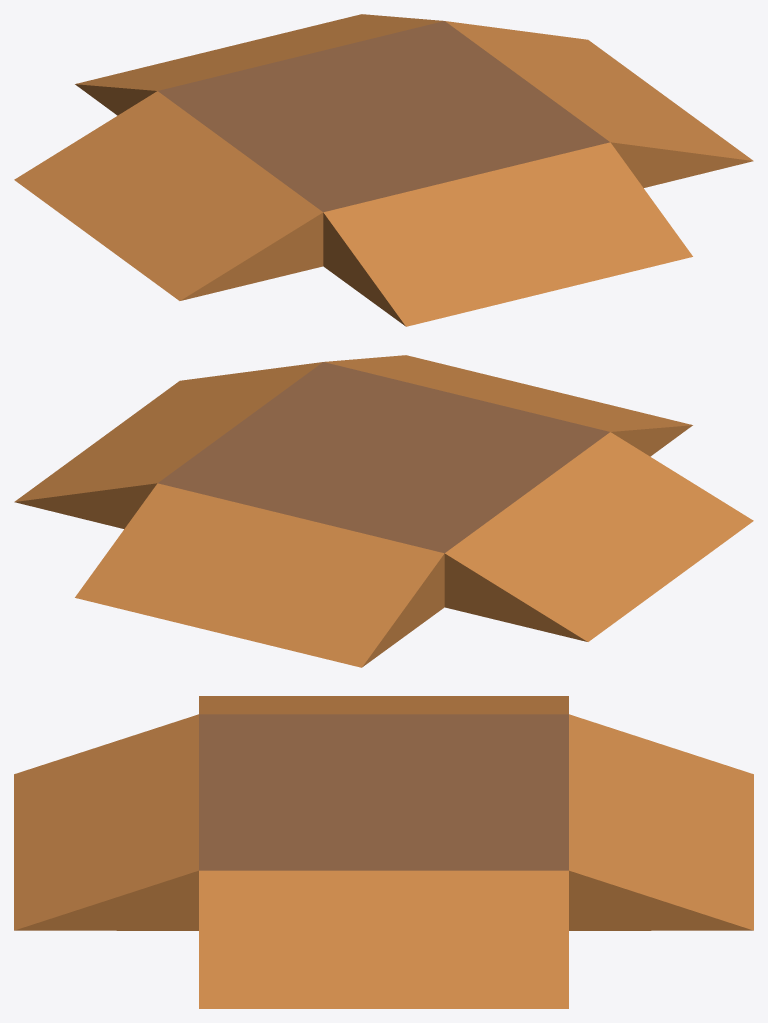
The model's file is wsc-kit-003-hover-funbox.glb.
The picture shows the model from 3 angles, top to bottom: view 1: azimuth 30°, elevation 25°; view 2: azimuth 150°, elevation 25°; view 3: azimuth 270°, elevation 25°; orthographic projection. The views are drawn at different scales.
Parts seen in each view (by area): view 1: W5a | four-ramp funbox; view 2: W5a | four-ramp funbox; view 3: W5a | four-ramp funbox.
Part boxes in pixels (<box>): W5a | four-ramp funbox: <box>14,14,753,326</box>; W5a | four-ramp funbox: <box>14,355,753,667</box>; W5a | four-ramp funbox: <box>14,696,753,1008</box>.
Bounding box in the file's own units: 20 × 1.8 × 20.
